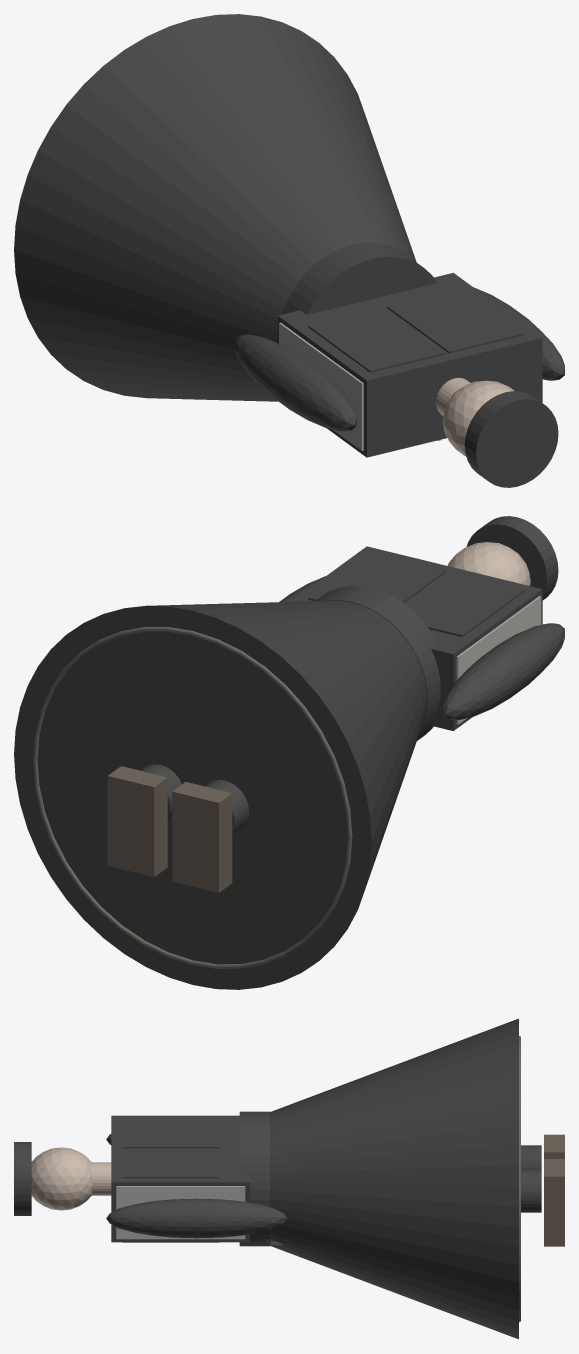
Rendered from MASTER_103_STAGE3_DETAIL.glb.
3 views of the same model, one above another, from view 1: azimuth 30°, elevation 25°; view 2: azimuth 150°, elevation 25°; view 3: azimuth 270°, elevation 25° (orthographic). The views are drawn at different scales.
Parts seen in each view (by area): view 1: slot_lower_main__fund_i_gjatë, slot_upper_inner__këmishë, slot_headwear__mbulesë_koke, slot_waist__brez, slot_upper_inner_sleeve_L, slot_upper_outer__jelek/xhamadan_L, slot_upper_outer__jelek/xhamadan_R, mannequin_torso, mannequin_head, slot_upper_inner_sleeve_R; view 2: slot_lower_main__fund_i_gjatë, slot_footwear__opinga_R, slot_footwear__opinga_L, slot_upper_inner_sleeve_L, detail_skirt_hem, slot_upper_inner__këmishë, slot_upper_outer__jelek/xhamadan_L, slot_waist__brez, slot_upper_outer__jelek/xhamadan_R, slot_headwear__mbulesë_koke, mannequin_head, mannequin_torso (+2 smaller); view 3: slot_lower_main__fund_i_gjatë, slot_upper_inner_sleeve_R, slot_upper_inner__këmishë, mannequin_head, slot_upper_outer__jelek/xhamadan_R, slot_upper_outer__jelek/xhamadan_L, slot_waist__brez, mannequin_torso, slot_footwear__opinga_R, slot_headwear__mbulesë_koke, slot_legwear__çorape_R, mannequin_neck (+3 smaller).
Boxes of the visible parts, bbox=[...] form: slot_lower_main__fund_i_gjatë: bbox=[14, 14, 416, 401]; slot_upper_inner__këmishë: bbox=[278, 273, 542, 457]; slot_headwear__mbulesë_koke: bbox=[464, 391, 558, 487]; slot_waist__brez: bbox=[277, 242, 437, 342]; slot_upper_inner_sleeve_L: bbox=[234, 334, 356, 431]; slot_upper_outer__jelek/xhamadan_L: bbox=[308, 307, 445, 372]; slot_upper_outer__jelek/xhamadan_R: bbox=[387, 288, 524, 353]; mannequin_torso: bbox=[279, 322, 363, 450]; mannequin_head: bbox=[442, 380, 514, 456]; slot_upper_inner_sleeve_R: bbox=[474, 287, 564, 380]; slot_lower_main__fund_i_gjatë: bbox=[14, 600, 427, 989]; slot_footwear__opinga_R: bbox=[107, 766, 167, 877]; slot_footwear__opinga_L: bbox=[172, 782, 232, 892]; slot_upper_inner_sleeve_L: bbox=[442, 623, 564, 719]; detail_skirt_hem: bbox=[33, 627, 352, 968]; slot_upper_inner__këmishë: bbox=[291, 546, 542, 730]; slot_upper_outer__jelek/xhamadan_L: bbox=[405, 571, 524, 637]; slot_waist__brez: bbox=[315, 585, 440, 740]; slot_upper_outer__jelek/xhamadan_R: bbox=[308, 552, 445, 602]; slot_headwear__mbulesë_koke: bbox=[466, 516, 558, 600]; mannequin_head: bbox=[447, 542, 530, 585]; mannequin_torso: bbox=[456, 596, 541, 724]; slot_lower_main__fund_i_gjatë: bbox=[270, 1018, 518, 1339]; slot_upper_inner_sleeve_R: bbox=[106, 1198, 287, 1238]; slot_upper_inner__këmishë: bbox=[111, 1115, 249, 1242]; mannequin_head: bbox=[31, 1147, 92, 1210]; slot_upper_outer__jelek/xhamadan_R: bbox=[122, 1148, 219, 1242]; slot_upper_outer__jelek/xhamadan_L: bbox=[122, 1118, 219, 1148]; slot_waist__brez: bbox=[239, 1111, 269, 1246]; mannequin_torso: bbox=[116, 1186, 245, 1239]; slot_footwear__opinga_R: bbox=[544, 1159, 564, 1246]; slot_headwear__mbulesë_koke: bbox=[14, 1142, 31, 1215]; slot_legwear__çorape_R: bbox=[521, 1169, 541, 1212]; mannequin_neck: bbox=[91, 1162, 111, 1195].
Size of the model in its own units: 0.9976 by 0.9976 by 1.71.
